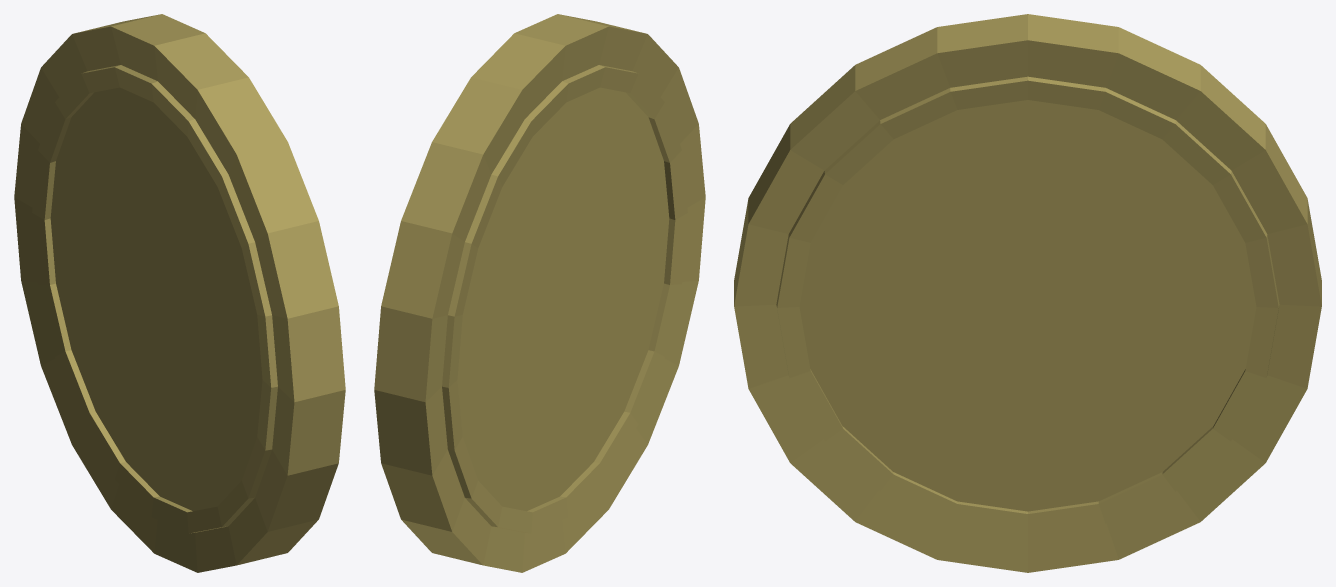
Rendered from Coin.fbx.
3 views of the same model, side by side, from view 1: azimuth 30°, elevation 25°; view 2: azimuth 150°, elevation 25°; view 3: azimuth 270°, elevation 25° (orthographic). The views are drawn at different scales.
Visible parts, largest first — view 1: pCylinder1; view 2: pCylinder1; view 3: pCylinder1.
Part boxes in pixels (x1,y1,x2,y2): pCylinder1: (14, 14, 345, 572); pCylinder1: (374, 14, 705, 572); pCylinder1: (734, 14, 1321, 572).
Size of the model in its own units: 0.2336 by 2 by 2.
